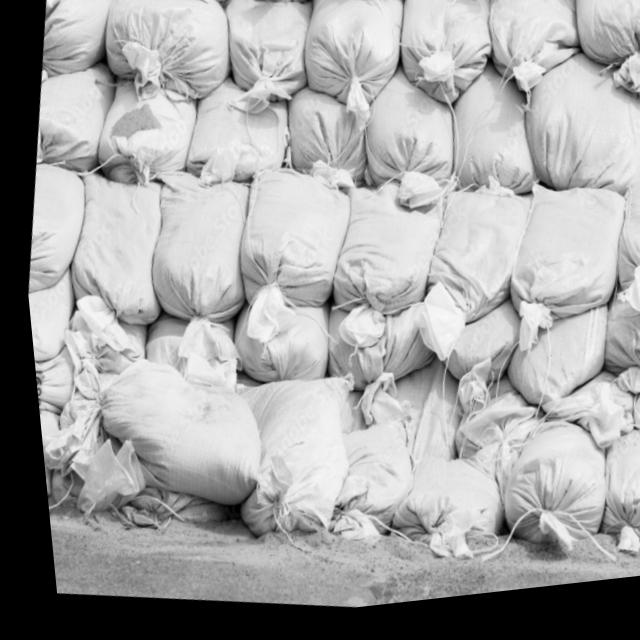sack: (27, 336, 269, 531), (123, 166, 262, 387), (214, 163, 360, 364), (485, 182, 634, 376), (392, 191, 538, 388), (209, 365, 358, 558), (310, 176, 453, 368), (46, 167, 176, 363), (504, 52, 640, 220), (305, 295, 441, 444), (347, 70, 470, 229), (286, 0, 415, 148), (482, 419, 609, 567), (90, 0, 242, 119), (368, 452, 504, 582), (434, 67, 550, 216), (172, 73, 296, 206), (383, 0, 503, 125), (489, 303, 609, 427), (85, 73, 203, 199), (209, 0, 320, 131), (312, 415, 415, 556), (471, 0, 592, 115), (26, 57, 123, 179), (273, 87, 375, 203), (219, 299, 330, 399), (14, 160, 93, 298), (368, 355, 463, 469), (555, 0, 640, 127), (524, 373, 632, 470), (421, 299, 521, 402), (438, 383, 537, 475), (579, 436, 640, 574), (132, 312, 233, 388), (35, 0, 125, 84), (25, 321, 101, 415), (595, 185, 640, 339), (20, 263, 78, 366), (592, 306, 640, 396), (31, 405, 59, 512), (633, 98, 640, 198)
